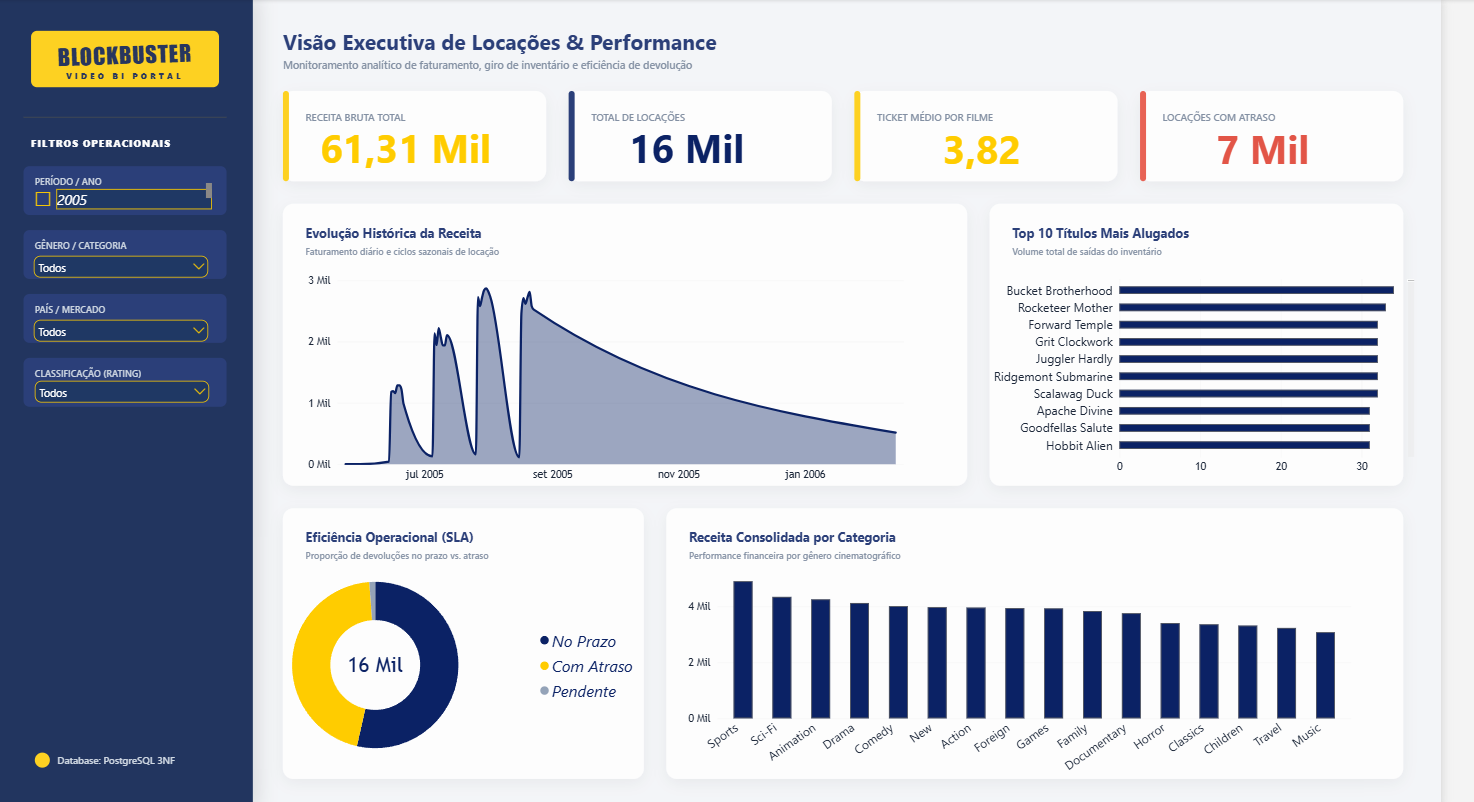

What the dashboard file says about the page in this screenshot:
{"tool":"powerbi","page":{"name":"Main","canvas":[1920,1080],"ordinal":0},"visuals":[{"type":"cardVisual","fields":{"Data":["_Medidas.Receita Total"]},"box":[395.7,124.3,262.9,147.1],"z":0},{"type":"cardVisual","fields":{"Data":["_Medidas.Total Alugueis"]},"box":[768.8,102.4,220.8,196.8],"z":1000},{"type":"cardVisual","fields":{"Data":["_Medidas.Total Atrasos"]},"box":[1550.8,85.1,266,226.1],"z":2000},{"type":"cardVisual","fields":{"Data":["_Medidas.Ticket Medio"]},"box":[1177.1,85.1,266,226.1],"z":3000},{"type":"lineChart","fields":{"Category":["d_calendario.Mes_Ano"],"Y":["_Medidas.Receita Total"]},"box":[395,340.5,889.8,308.6],"z":4000},{"type":"barChart","fields":{"Category":["v_dim_filme.titulo"],"Y":["_Medidas.Total Alugueis"]},"box":[1248.9,351.1,651.7,297.9],"z":5000},{"type":"donutChart","fields":{"Category":["v_fato_locacao.status_devolucao"],"Y":["_Medidas.Total Alugueis"]},"box":[372.4,747.5,468.2,276.7],"z":6000},{"type":"clusteredColumnChart","fields":{"Category":["v_dim_filme.categoria"],"Y":["_Medidas.Receita Total"]},"box":[903.1,747.5,913.7,315.2],"z":7000},{"type":"slicer","fields":{"Values":["v_dim_filme.classificacao_indicativa"]},"box":[45.2,502.8,242.1,34.6],"z":8000},{"type":"slicer","fields":{"Values":["v_dim_cliente.pais"]},"box":[43.9,421.6,242.1,65.2],"z":9000},{"type":"slicer","fields":{"Values":["v_fato_locacao.Ano_Locacao"]},"box":[43.9,244.7,242.1,39.9],"z":10000},{"type":"slicer","fields":{"Values":["v_dim_filme.categoria"]},"box":[43.9,336.5,242.1,65.2],"z":11000},{"type":"cardVisual","fields":{"Data":["_Medidas.Indicador_Receita"]},"box":[624.3,142.9,120,121.4],"z":12000},{"type":"cardVisual","fields":{"Data":["_Medidas.Indicador_Locacoes"]},"box":[960,140,120,121.4],"z":13000},{"type":"actionButton","box":[59.9,747.5,212.8,105.1],"z":14000}]}

Visuals, with their boxes on the page's 1920x1080 design canvas (x1, y1, x2, y2). These are canvas units, not pixel positions in the 1474x802 screenshot, which may show the page scaled, cropped or inside an application window:
cardVisual - _Medidas.Receita Total: pyautogui.locateOnScreen(396, 124, 659, 271)
cardVisual - _Medidas.Total Alugueis: pyautogui.locateOnScreen(769, 102, 990, 299)
cardVisual - _Medidas.Total Atrasos: pyautogui.locateOnScreen(1551, 85, 1817, 311)
cardVisual - _Medidas.Ticket Medio: pyautogui.locateOnScreen(1177, 85, 1443, 311)
lineChart - d_calendario.Mes_Ano x _Medidas.Receita Total: pyautogui.locateOnScreen(395, 340, 1285, 649)
barChart - v_dim_filme.titulo x _Medidas.Total Alugueis: pyautogui.locateOnScreen(1249, 351, 1901, 649)
donutChart - v_fato_locacao.status_devolucao x _Medidas.Total Alugueis: pyautogui.locateOnScreen(372, 748, 841, 1024)
clusteredColumnChart - v_dim_filme.categoria x _Medidas.Receita Total: pyautogui.locateOnScreen(903, 748, 1817, 1063)
slicer - v_dim_filme.classificacao_indicativa: pyautogui.locateOnScreen(45, 503, 287, 537)
slicer - v_dim_cliente.pais: pyautogui.locateOnScreen(44, 422, 286, 487)
slicer - v_fato_locacao.Ano_Locacao: pyautogui.locateOnScreen(44, 245, 286, 285)
slicer - v_dim_filme.categoria: pyautogui.locateOnScreen(44, 336, 286, 402)
cardVisual - _Medidas.Indicador_Receita: pyautogui.locateOnScreen(624, 143, 744, 264)
cardVisual - _Medidas.Indicador_Locacoes: pyautogui.locateOnScreen(960, 140, 1080, 261)
actionButton: pyautogui.locateOnScreen(60, 748, 273, 853)
